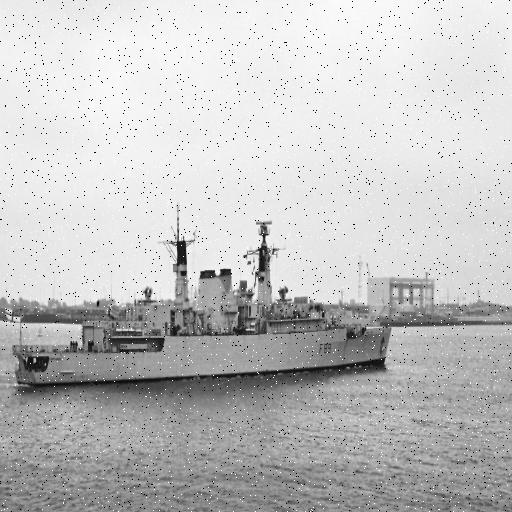Fragata: (13, 203, 393, 391)
